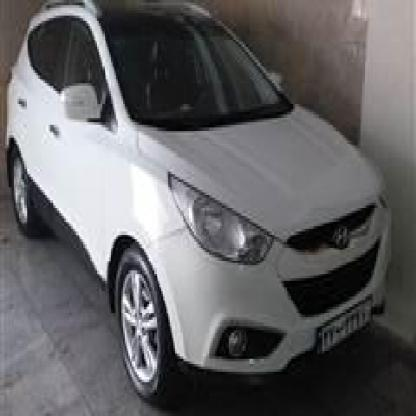Car: (0, 0, 381, 416)
